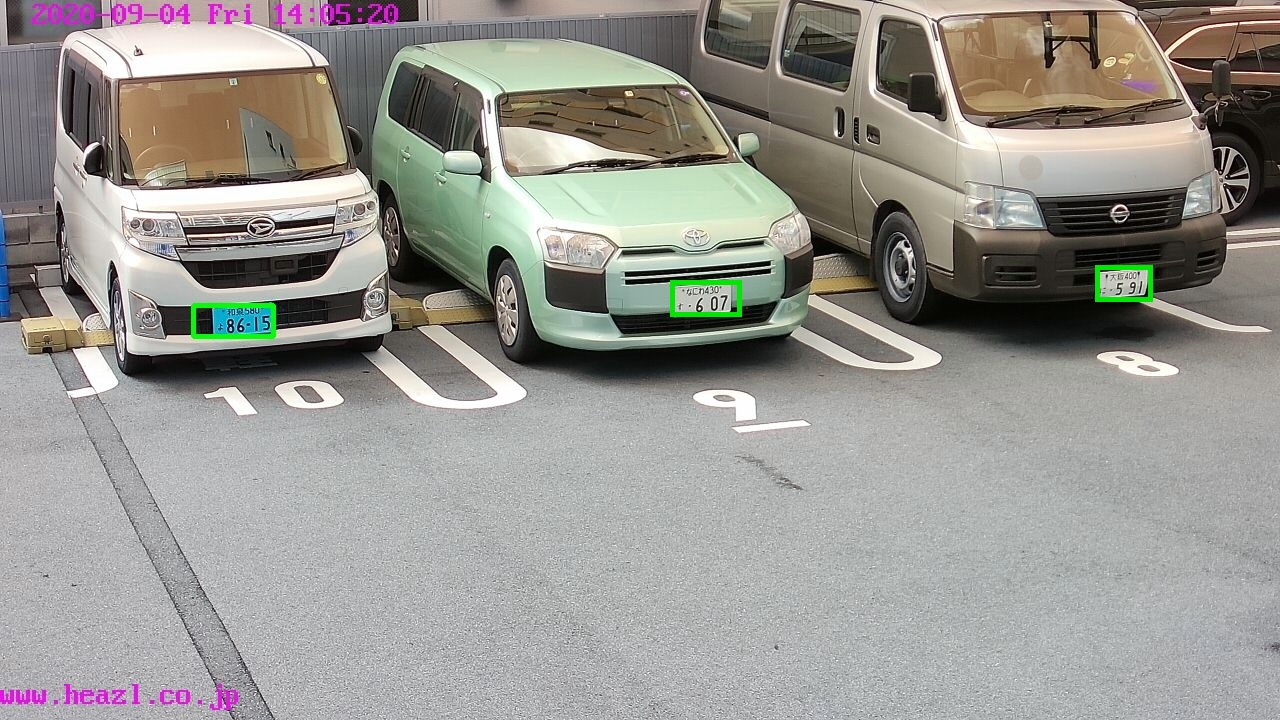number_plate: (675, 282, 734, 313), (213, 304, 275, 333), (1098, 270, 1150, 299)
